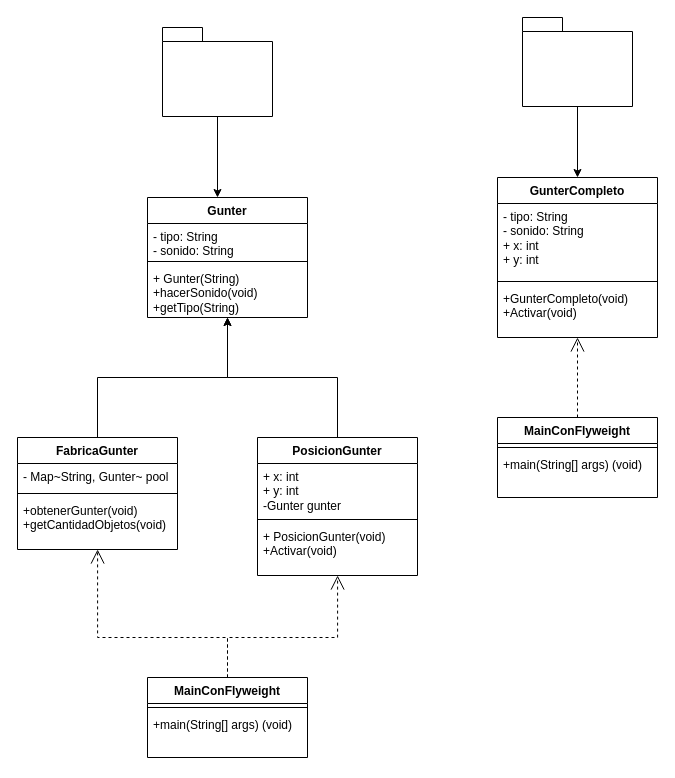
The diagram is 675 pixels wide and 778 high, and some of its shapes have lost their labels. Here are the shapes that lost their labels. From the top down, the centre of each, then its label:
the point at 217,71: con_flyweight
the point at 577,61: sin_flyweight
